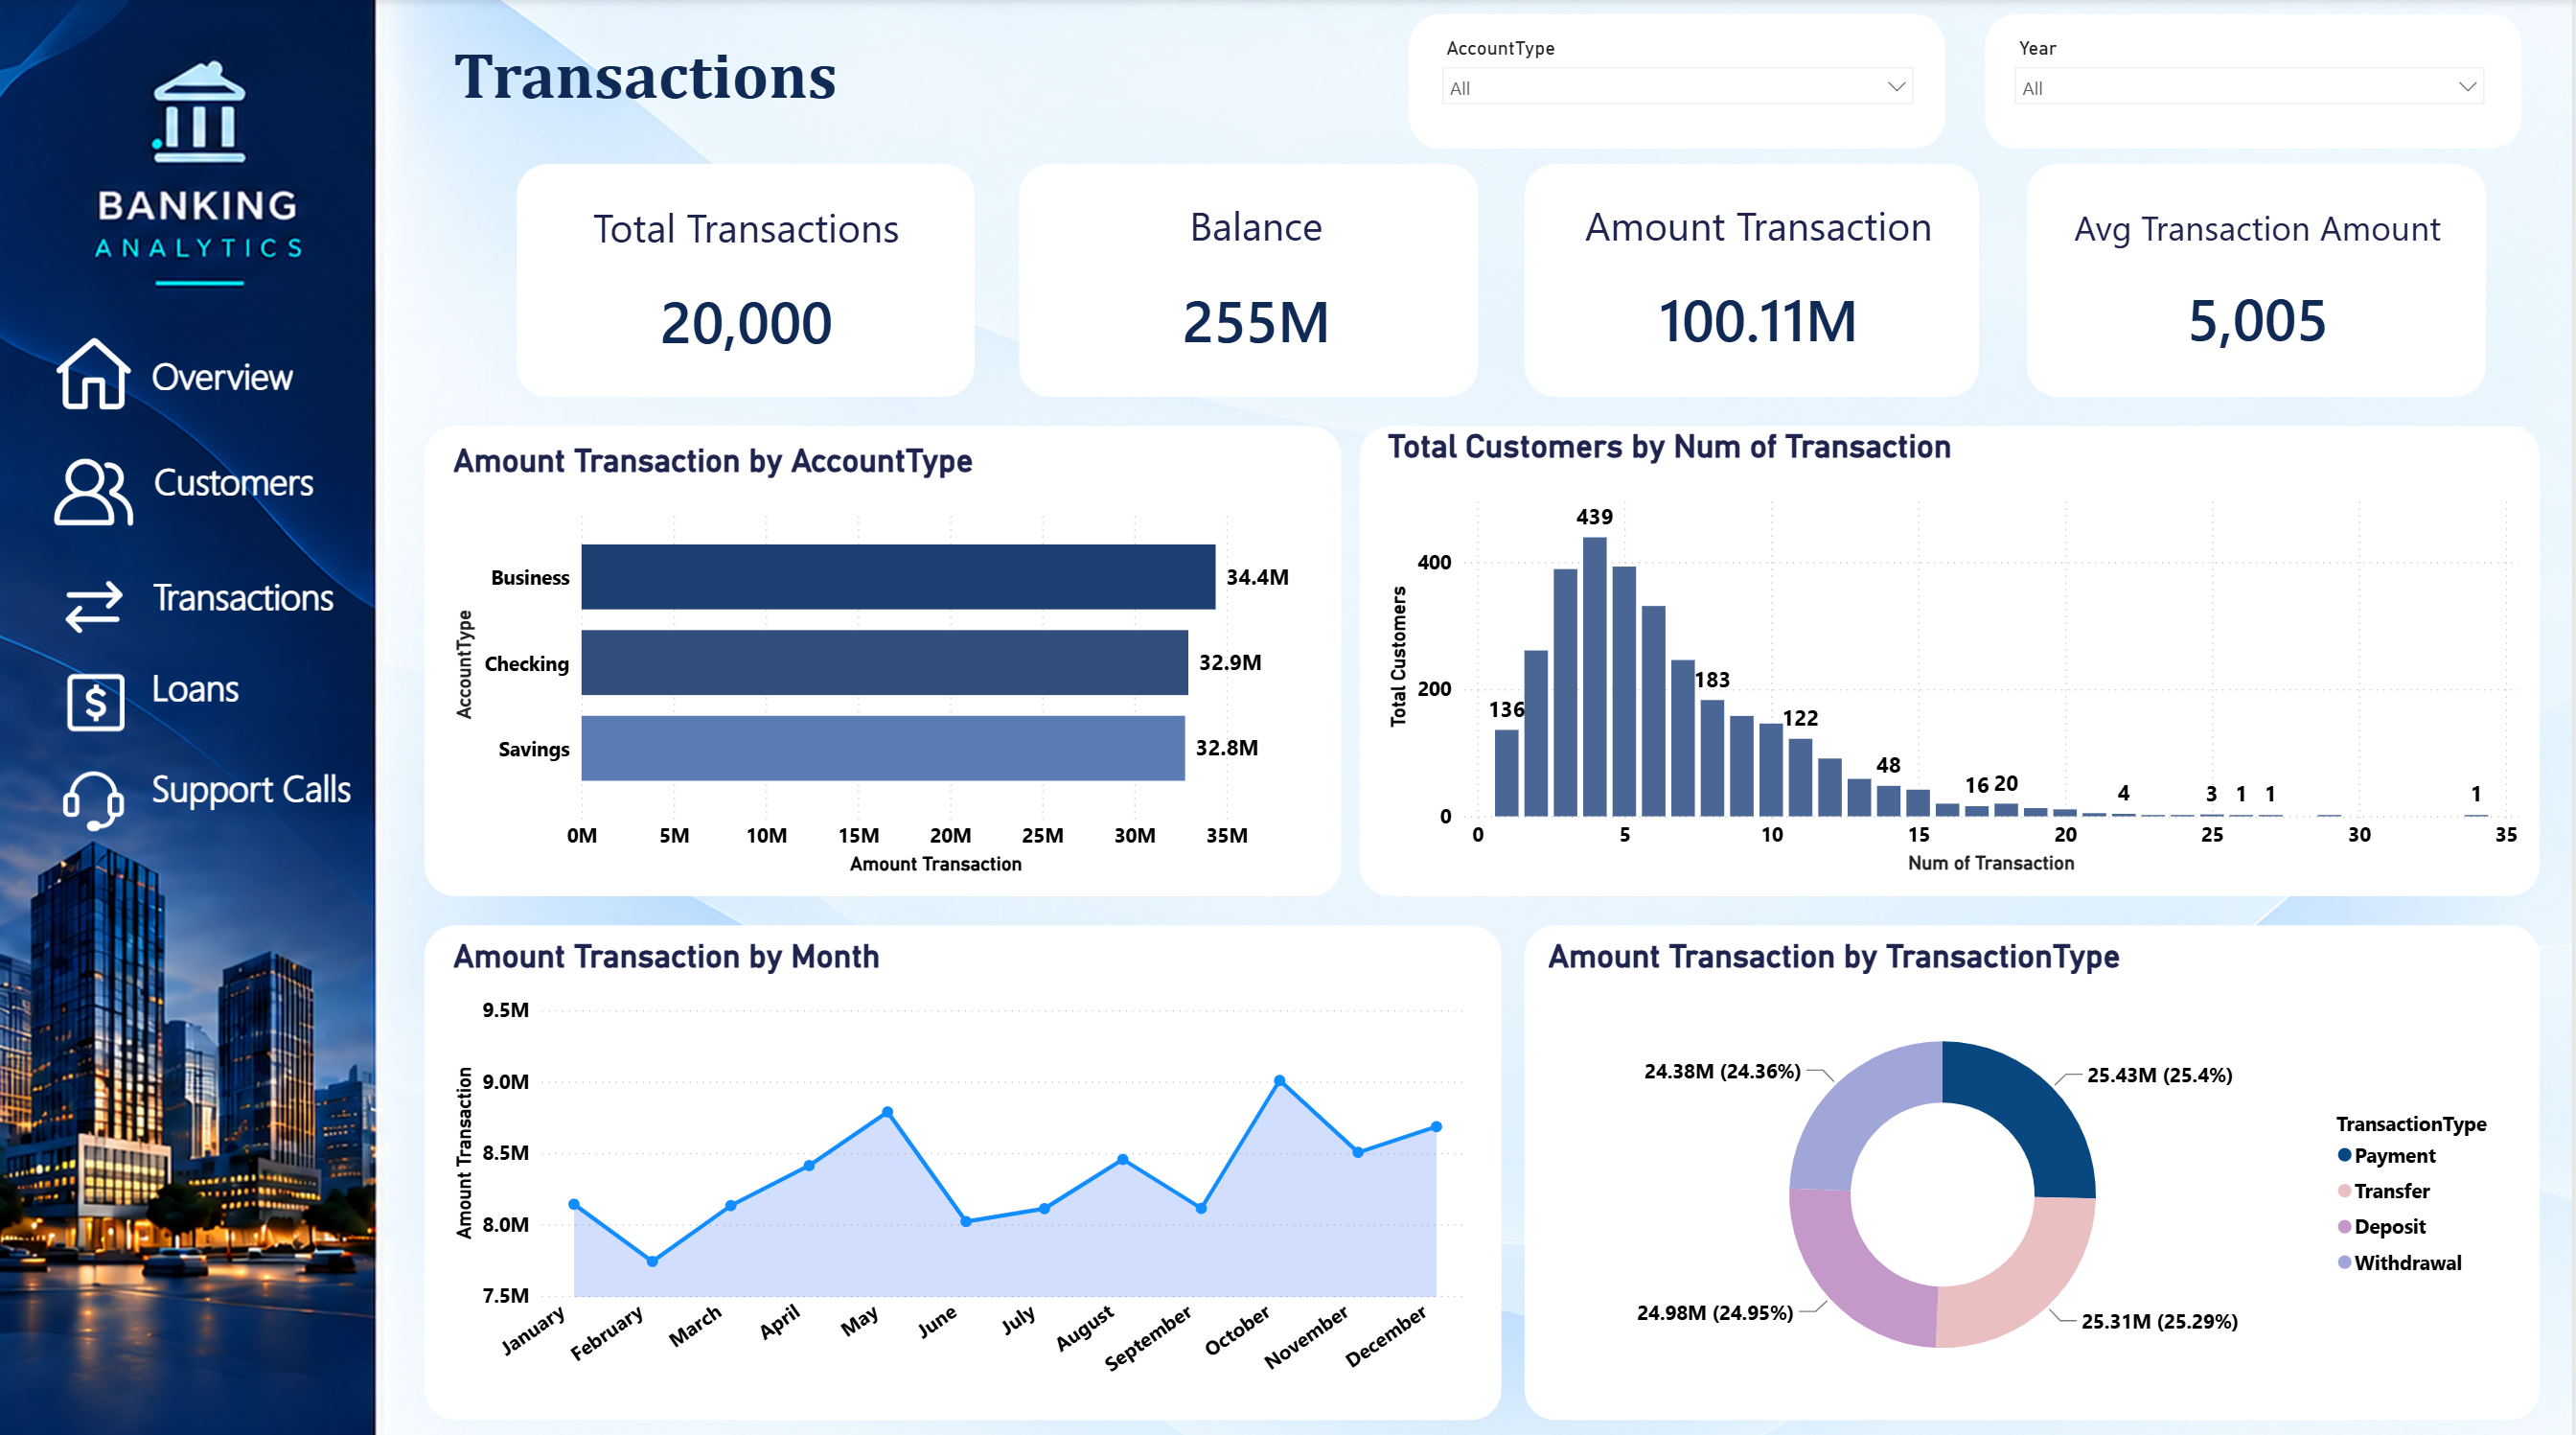

What the dashboard file says about the page in this screenshot:
{"tool":"powerbi","page":{"name":"Transactions","canvas":[1920,1080],"ordinal":3},"visuals":[{"type":"cardVisual","fields":{"Data":["Calculation Overview.Total Transactions"]},"box":[397.5,135,322.5,147.5],"z":0},{"type":"cardVisual","fields":{"Data":["Calculation Overview.Amount Transaction"]},"box":[1152,136,324,144],"z":1000},{"type":"cardVisual","fields":{"Data":["Calculation Overview.Balance"]},"box":[777.5,135,325,145],"z":2000},{"type":"cardVisual","fields":{"Data":["Calculation Transaction.Avg Transaction Amount"]},"box":[1520,136,332,148],"z":3000},{"type":"lineChart","fields":{"Category":["Transactions.TransactionDate.Variation.Date Hierarchy.Year","Transactions.TransactionDate.Variation.Date Hierarchy.Quarter","Transactions.TransactionDate.Variation.Date Hierarchy.Month","Transactions.TransactionDate.Variation.Date Hierarchy.Day"],"Y":["Calculation Overview.Amount Transaction"]},"box":[336,700,766,346],"z":4000},{"type":"donutChart","fields":{"Category":["Transactions.TransactionType"],"Y":["Calculation Overview.Amount Transaction"]},"box":[1152.5,700,732.5,345],"z":5000},{"type":"barChart","fields":{"Category":["Accounts.AccountType"],"Y":["Calculation Overview.Amount Transaction"]},"box":[335,330,650,327.5],"z":6000},{"type":"clusteredColumnChart","fields":{"Category":["customers.Num of Transaction"],"Y":["Calculation Overview.Total Customers"]},"box":[1032.5,320,852.5,337.5],"z":7000},{"type":"slicer","fields":{"Values":["Calender.Year"]},"box":[1495,22.5,370,77.5],"z":8000},{"type":"slicer","fields":{"Values":["Accounts.AccountType"]},"box":[1067.5,22.5,371.2,77.5],"z":9000},{"type":"textbox","box":[335,22.5,317.1,77.1],"z":10000},{"type":"image","box":[34.9,226.1,73.6,105.5],"z":11000},{"type":"image","box":[34.9,333.6,73.8,66.2],"z":12000},{"type":"image","box":[34.9,416.1,73.8,73.8],"z":13000},{"type":"image","box":[34.9,501.1,73.8,47.5],"z":14000},{"type":"image","box":[35.3,571.5,73.8,53.8],"z":15000},{"type":"shape","box":[117.3,328.8,136.7,60],"z":16000},{"type":"shape","box":[116,415,136.7,60],"z":17000},{"type":"shape","box":[116,482.5,136.7,60],"z":18000},{"type":"shape","box":[116,557.5,150.9,60],"z":19000},{"type":"shape","box":[116,250,136.7,60],"z":20000}]}

Visuals, with their boxes in screenshot pixels (x1, y1, x2, y2), scaled from the page's 1920x1080 canvas onto the 2576x1435 screenshot:
cardVisual - Calculation Overview.Total Transactions: 533/179/966/376
cardVisual - Calculation Overview.Amount Transaction: 1546/181/1980/372
cardVisual - Calculation Overview.Balance: 1043/179/1480/372
cardVisual - Calculation Transaction.Avg Transaction Amount: 2039/181/2485/378
lineChart - Transactions.TransactionDate.Variation.Date Hierarchy.Year x Transactions.TransactionDate.Variation.Date Hierarchy.Quarter: 450/930/1479/1390
donutChart - Transactions.TransactionType x Calculation Overview.Amount Transaction: 1547/930/2529/1388
barChart - Accounts.AccountType x Calculation Overview.Amount Transaction: 449/438/1322/873
clusteredColumnChart - customers.Num of Transaction x Calculation Overview.Total Customers: 1386/426/2529/873
slicer - Calender.Year: 2006/30/2502/133
slicer - Accounts.AccountType: 1432/30/1930/133
textbox: 449/30/875/132
image: 47/300/146/441
image: 47/443/146/531
image: 47/553/146/651
image: 47/666/146/729
image: 47/759/147/831
shape: 157/437/341/517
shape: 155/551/339/631
shape: 155/641/339/721
shape: 155/741/358/821
shape: 155/333/339/412
